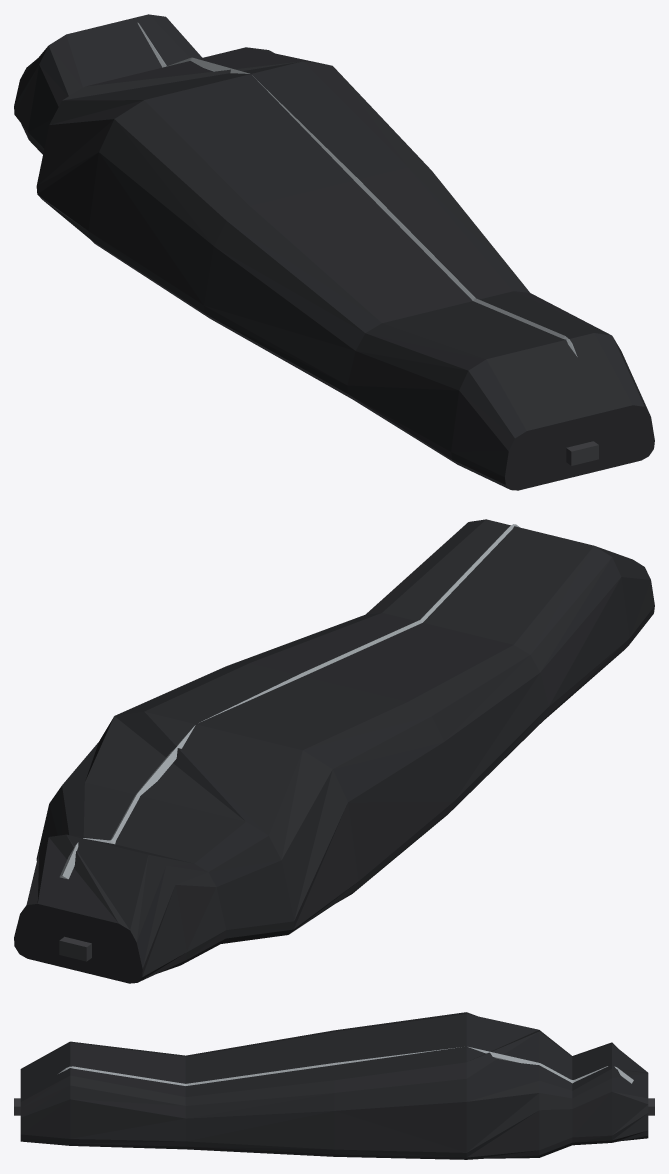
The model's file is housse_mortuaire.glb.
The picture shows the model from 3 angles, top to bottom: view 1: azimuth 30°, elevation 25°; view 2: azimuth 150°, elevation 25°; view 3: azimuth 270°, elevation 25°; orthographic projection. The views are drawn at different scales.
Parts seen in each view (by area): view 1: bag, zip; view 2: bag, zip; view 3: bag, zip, straps.
Part boxes in pixels (<box>): bag: <box>14,14,654,490</box>; zip: <box>137,22,577,356</box>; bag: <box>14,519,654,983</box>; zip: <box>59,524,519,879</box>; bag: <box>20,1012,648,1159</box>; zip: <box>58,1047,633,1085</box>; straps: <box>14,1098,654,1115</box>.
Size of the model in its own units: 0.5902 by 0.28 by 1.94.
Materials: 3 (3 with a texture image).
